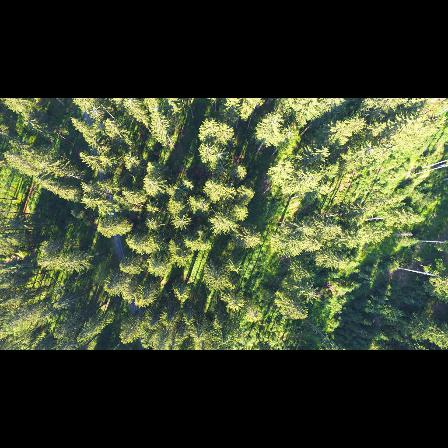Sick: (172, 214, 190, 231), (212, 162, 231, 176), (211, 147, 230, 161), (199, 142, 216, 157)
